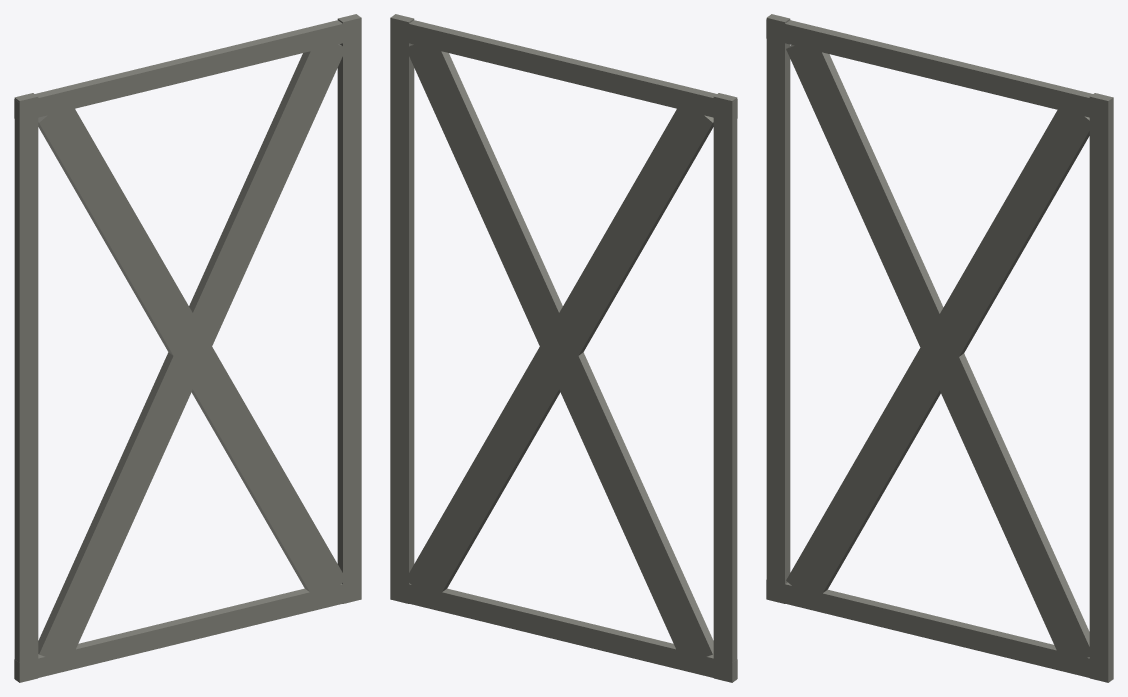
Rendered from metal_barricade_03.fbx.
3 views of the same model, side by side, from view 1: azimuth 30°, elevation 25°; view 2: azimuth 150°, elevation 25°; view 3: azimuth 330°, elevation 25° (orthographic).
Visible parts, largest first — view 1: metal_barricade_03; view 2: metal_barricade_03; view 3: metal_barricade_03.
Boxes of the visible parts, x1,y1,x2,y2 form: metal_barricade_03: (14,14,361,682); metal_barricade_03: (390,14,737,682); metal_barricade_03: (766,14,1113,682).
Size of the model in its own units: 121 by 197 by 3.16.
